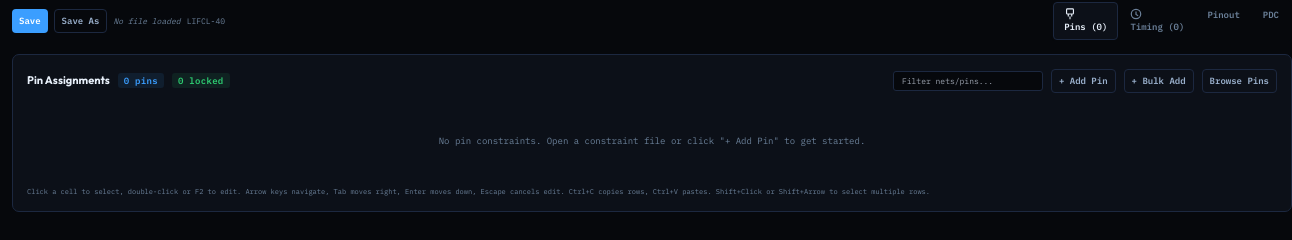
ConstraintEditor › validates that net name is required when adding a pin
What coordinates should you click on to do the following:
click the button "+ Add Pin"
I would click on:
 (1083, 80)
Its box is x1=1051 y1=68 x2=1116 y2=92.
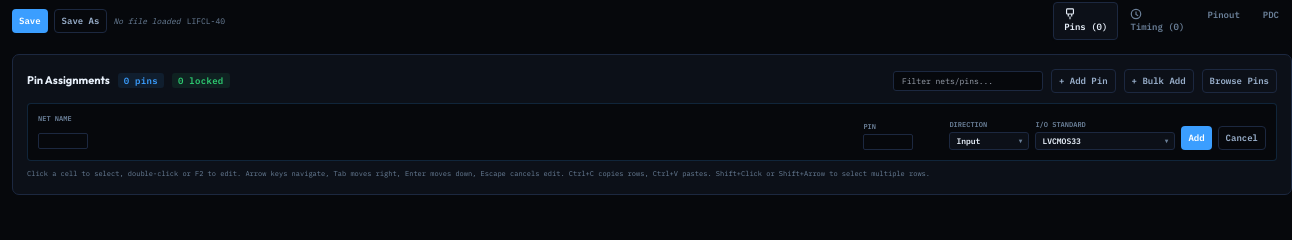
Click Add without filling anything
What coordinates should you click on to do the following:
click the button "Add"
I would click on:
 (1196, 138)
Its box is x1=1181 y1=126 x2=1212 y2=150.
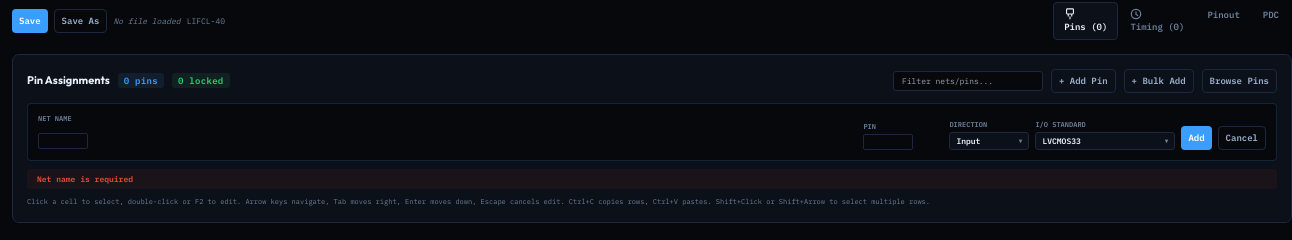
Check: the text "Net name is required" is shown, box x1=27 y1=169 x2=1277 y2=189
